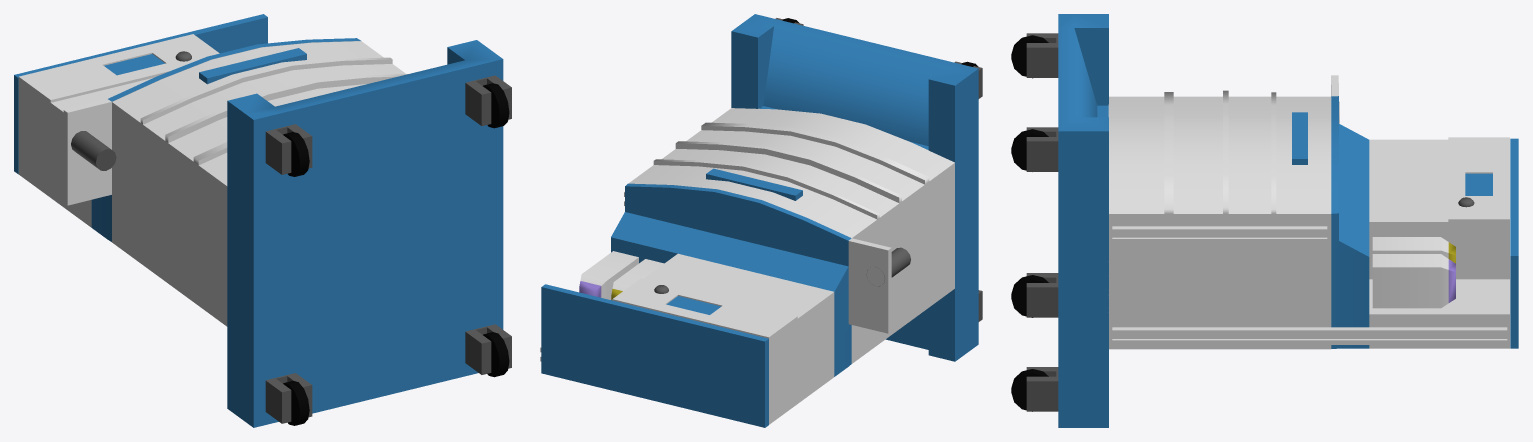
File: ИВЛ-м.fbx
3 renders of one model, left to right at view 1: azimuth 30°, elevation 25°; view 2: azimuth 150°, elevation 25°; view 3: azimuth 270°, elevation 25°, orthographic. The views are drawn at different scales.
Parts seen in each view (by area): view 1: Cube.002; view 2: Cube.002; view 3: Cube.002.
Part boxes in pixels (x1,y1,x2,y2): Cube.002: (14,14,511,427); Cube.002: (540,14,982,427); Cube.002: (1011,14,1518,427).
Size of the model in its own units: 94.03 by 92 by 143.
